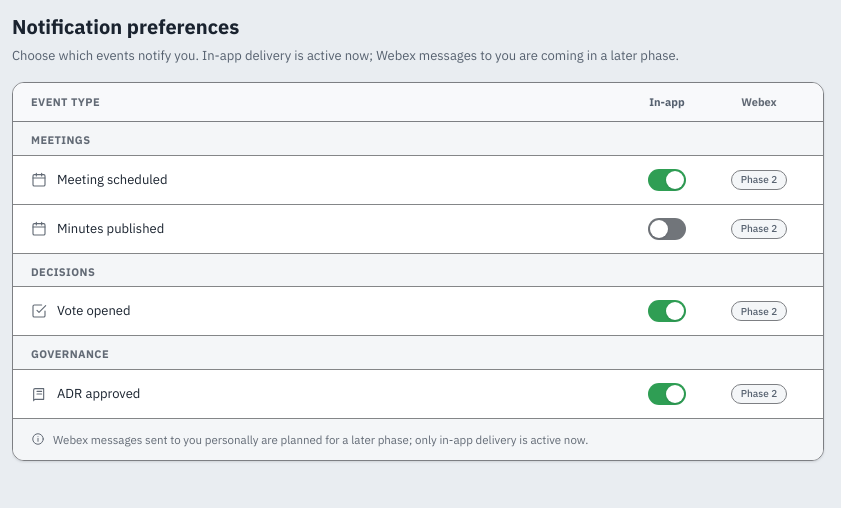
Test case: NotificationPreferencesPage — saving a toggle › reverts the toggle and announces an error when the save fails
Click the switch named "Minutes published". click: (667, 228)
box: [648,218,686,240]
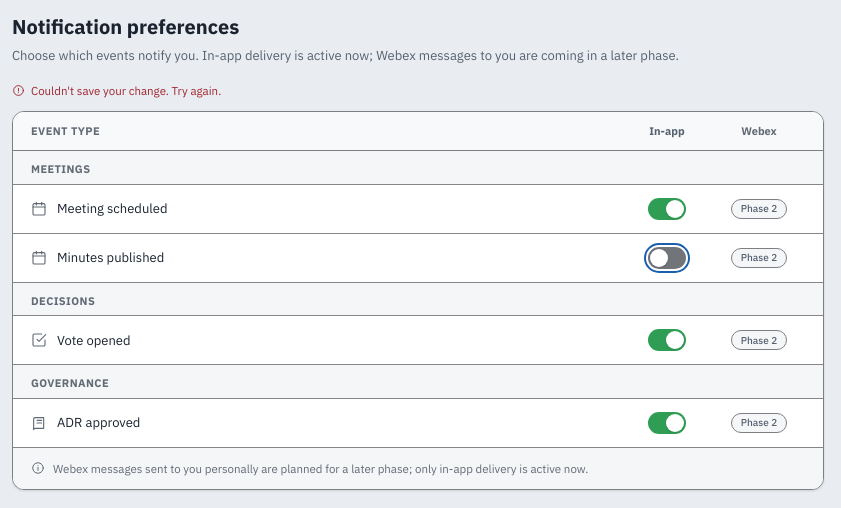
Expected: the switch named "Minutes published" is enabled, [648,247,686,269]
Now the message reads "Couldn't save your change. Try again.", box [31,82,221,98]
